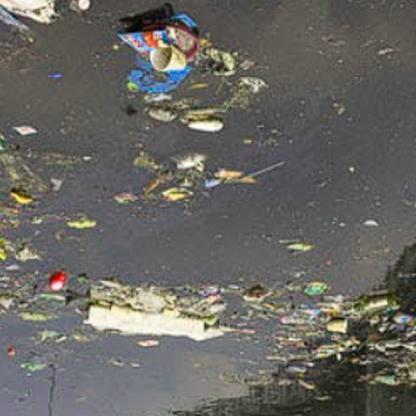Metal: (45, 268, 66, 293)
Plastic: (138, 43, 190, 77), (324, 320, 350, 332)
Trash: (186, 108, 226, 135), (298, 273, 332, 301), (172, 147, 206, 172)
